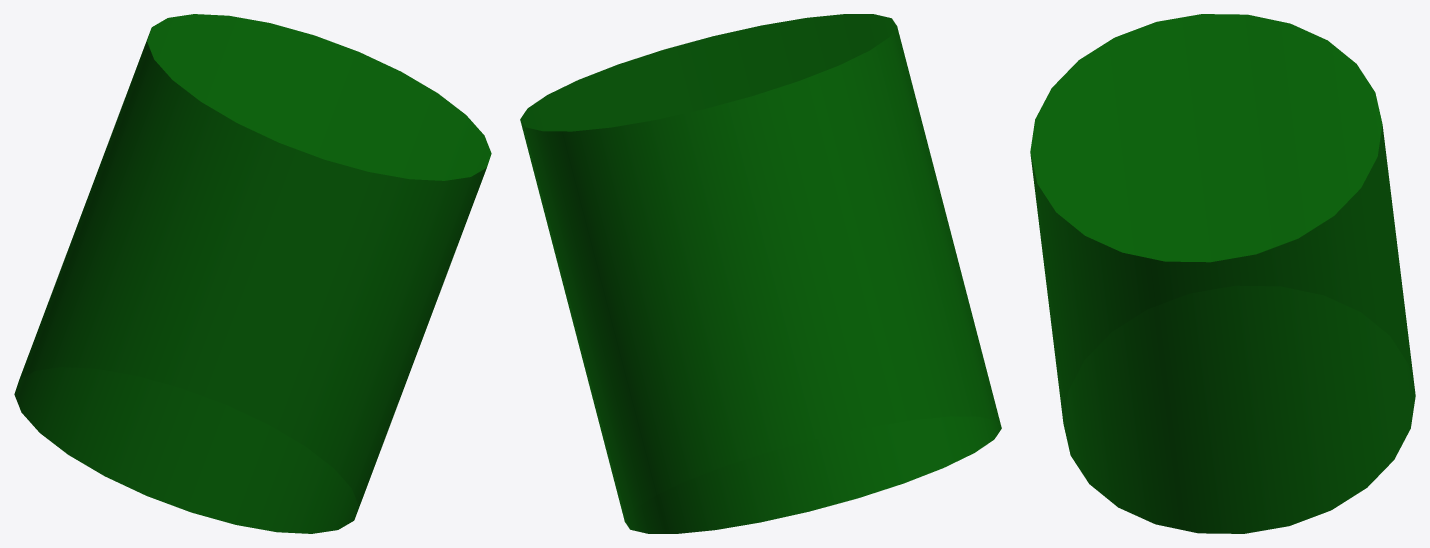
File: Event_420094457_jet_2.fbx
The picture shows the model from 3 angles, left to right: view 1: azimuth 30°, elevation 25°; view 2: azimuth 150°, elevation 25°; view 3: azimuth 270°, elevation 25°; orthographic projection. The views are drawn at different scales.
Parts seen in each view (by area): view 1: Model; view 2: Model; view 3: Model.
Boxes of the visible parts, x1,y1,x2,y2 form: Model: [14, 14, 491, 533]; Model: [520, 14, 1001, 533]; Model: [1030, 14, 1415, 533].
Size of the model in its own units: 0.0523 by 0.0546 by 0.0436.
